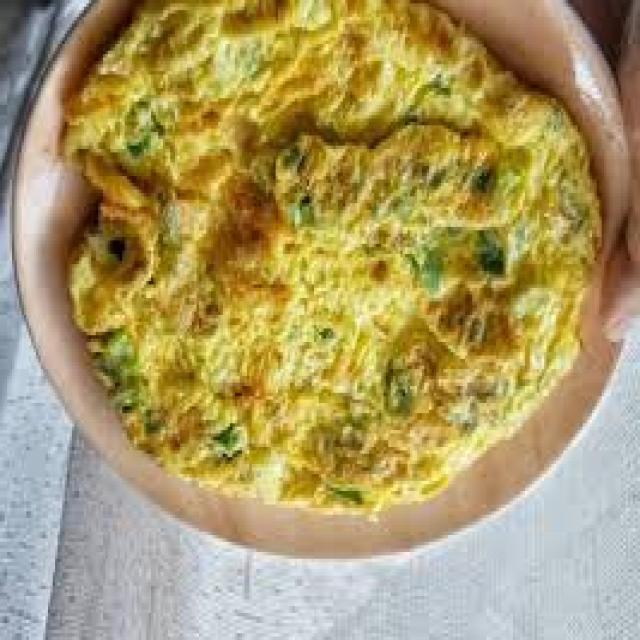telur dadar: (55, 0, 611, 521)
